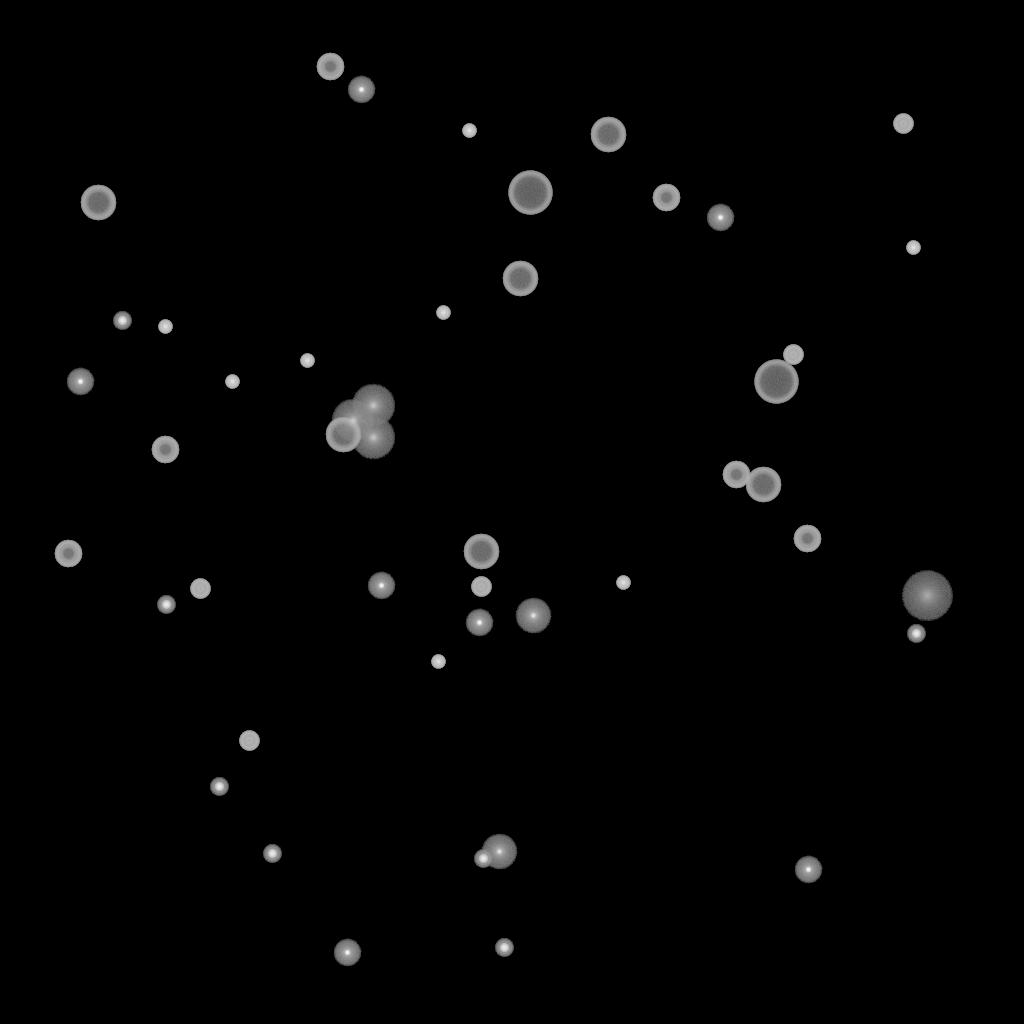depth:-10: (367, 572, 395, 600), (333, 939, 361, 967), (66, 368, 94, 396), (347, 76, 375, 104), (706, 204, 734, 232), (794, 856, 822, 884), (465, 609, 493, 637)
depth:-20: (474, 850, 492, 868), (907, 625, 925, 643), (210, 778, 228, 796), (113, 312, 131, 330), (495, 939, 513, 957), (157, 596, 175, 614), (263, 845, 281, 863)
depth:-30: (300, 354, 314, 368), (225, 375, 239, 389), (462, 124, 476, 138), (431, 655, 445, 669), (158, 320, 172, 334), (616, 576, 630, 590), (906, 241, 920, 255), (436, 306, 450, 320)
depth:-40: (239, 731, 259, 751), (783, 345, 803, 365), (893, 114, 913, 134), (190, 579, 210, 599), (471, 577, 491, 597)
depth:-50: (722, 461, 750, 489), (652, 184, 680, 212), (54, 540, 82, 568), (793, 525, 821, 553), (151, 436, 179, 464), (316, 53, 344, 81)
depth:-60: (325, 417, 361, 453), (80, 185, 116, 221), (590, 117, 626, 153), (463, 534, 499, 570), (502, 261, 538, 297), (745, 467, 781, 503)
depth:-70: (508, 171, 552, 215), (754, 360, 798, 404)
depth:0: (515, 598, 551, 634), (481, 834, 517, 870)
depth:10: (351, 416, 395, 460), (331, 399, 375, 443), (351, 384, 395, 428)
depth:20: (901, 571, 953, 621)
